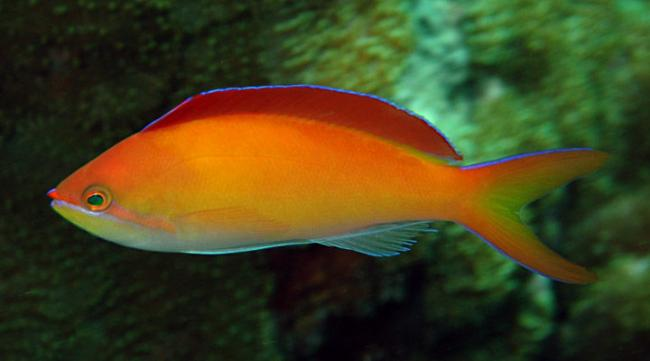fish: (46, 84, 610, 284)
